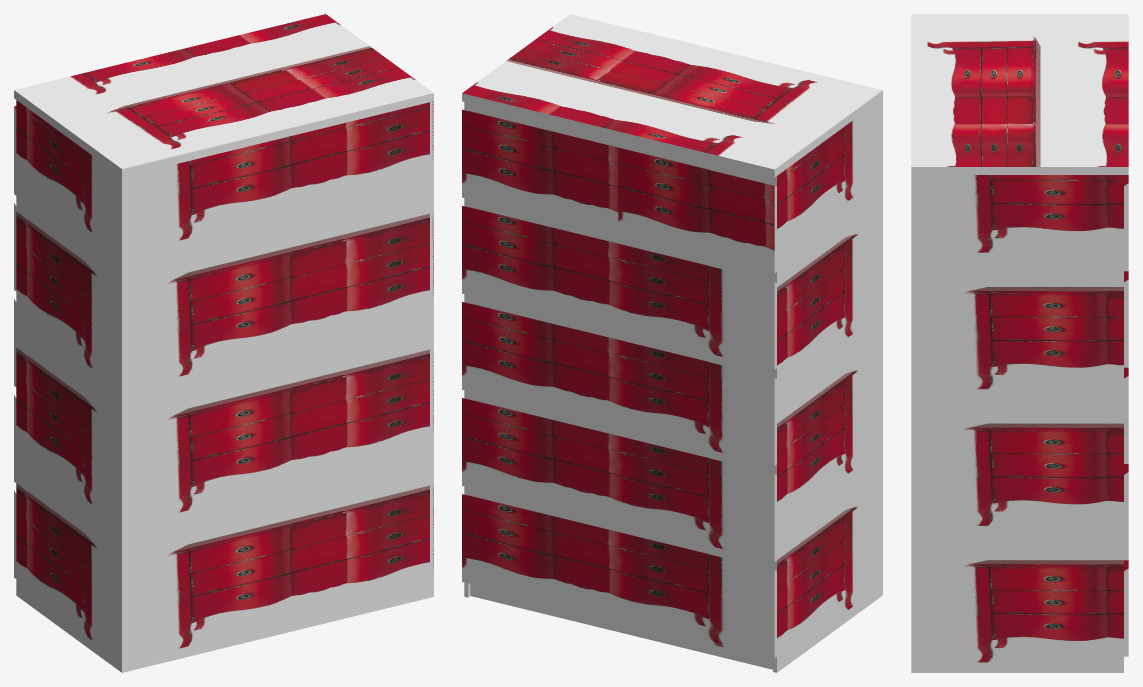
3 views of the same model, side by side, from view 1: azimuth 30°, elevation 25°; view 2: azimuth 150°, elevation 25°; view 3: azimuth 270°, elevation 25° (orthographic).
Parts seen in each view (by area): view 1: mesh5_mesh5-geometry, mesh1_mesh1-geometry, mesh7_mesh7-geometry, mesh3_mesh3-geometry; view 2: mesh1_mesh1-geometry, mesh7_mesh7-geometry, mesh11_mesh11-geometry, mesh19_mesh19-geometry, mesh23_mesh23-geometry, mesh15_mesh15-geometry, mesh31_mesh31-geometry, mesh27_mesh27-geometry, mesh9_mesh9-geometry, mesh29_mesh29-geometry, mesh17_mesh17-geometry, mesh21_mesh21-geometry (+3 smaller); view 3: mesh3_mesh3-geometry, mesh7_mesh7-geometry, mesh5_mesh5-geometry, mesh11_mesh11-geometry, mesh15_mesh15-geometry, mesh19_mesh19-geometry, mesh23_mesh23-geometry, mesh27_mesh27-geometry.
Boxes of the visible parts, x1,y1,x2,y2 form: mesh5_mesh5-geometry: (120,101,433,672); mesh1_mesh1-geometry: (16,100,125,672); mesh7_mesh7-geometry: (14,14,433,177); mesh3_mesh3-geometry: (430,101,433,597); mesh1_mesh1-geometry: (773,98,882,672); mesh7_mesh7-geometry: (462,14,882,177); mesh11_mesh11-geometry: (462,206,776,369); mesh19_mesh19-geometry: (462,398,776,561); mesh23_mesh23-geometry: (462,494,776,658); mesh15_mesh15-geometry: (462,302,776,465); mesh31_mesh31-geometry: (618,148,776,273); mesh27_mesh27-geometry: (462,109,618,235); mesh9_mesh9-geometry: (470,584,772,669); mesh29_mesh29-geometry: (468,103,772,185); mesh17_mesh17-geometry: (468,295,772,377); mesh21_mesh21-geometry: (468,391,772,473); mesh3_mesh3-geometry: (911,175,1123,672); mesh7_mesh7-geometry: (911,14,1128,174); mesh5_mesh5-geometry: (911,175,915,672); mesh11_mesh11-geometry: (1124,271,1128,367); mesh15_mesh15-geometry: (1124,367,1128,463); mesh19_mesh19-geometry: (1124,464,1128,560); mesh23_mesh23-geometry: (1124,560,1128,656); mesh27_mesh27-geometry: (1124,175,1128,271).
Size of the model in its own units: 0.5169 by 0.7979 by 0.3101.
